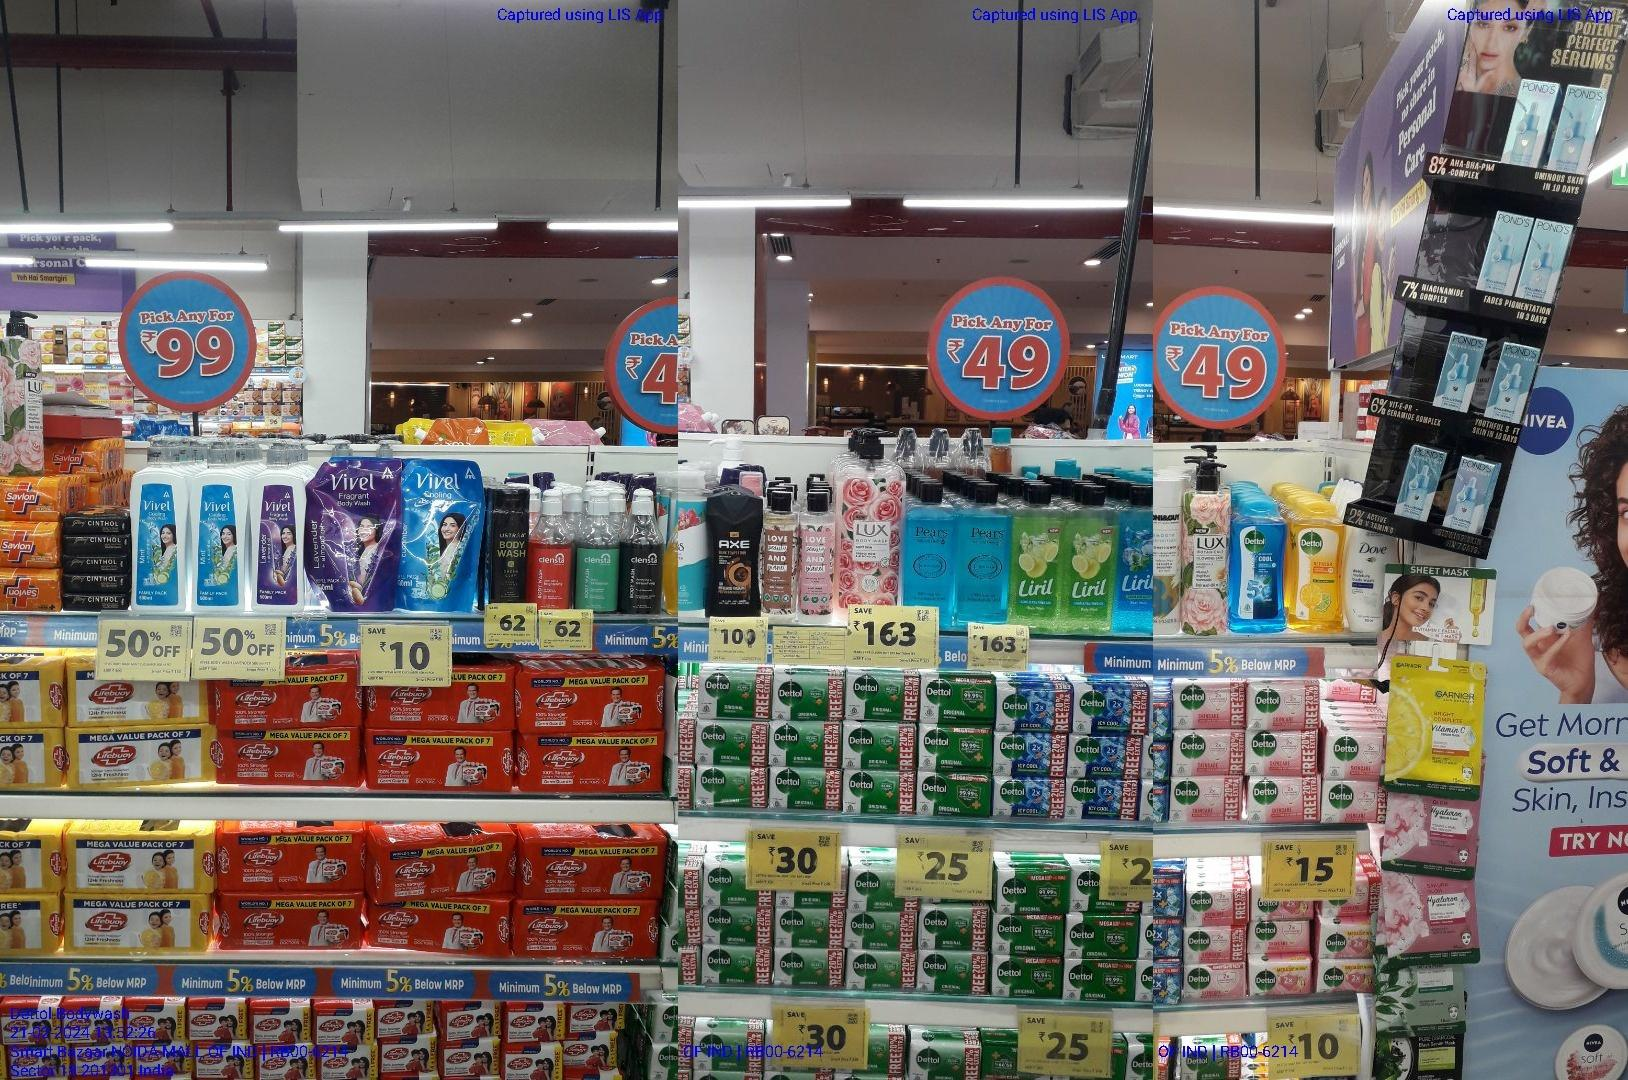Dettol_Bodywash_Cool: (1228, 498, 1287, 634)
Dettol_Bodywash_Refresh: (1288, 499, 1346, 632)
Liril_Lime_and_Tea_Tree_Oil_Body_Wash_250ML: (1064, 483, 1118, 633), (1011, 482, 1064, 632)
Pears_Pure_Glycerin_and_Mint_Extracts_Body_Wash_250ML: (954, 479, 1012, 622), (900, 480, 954, 606)
